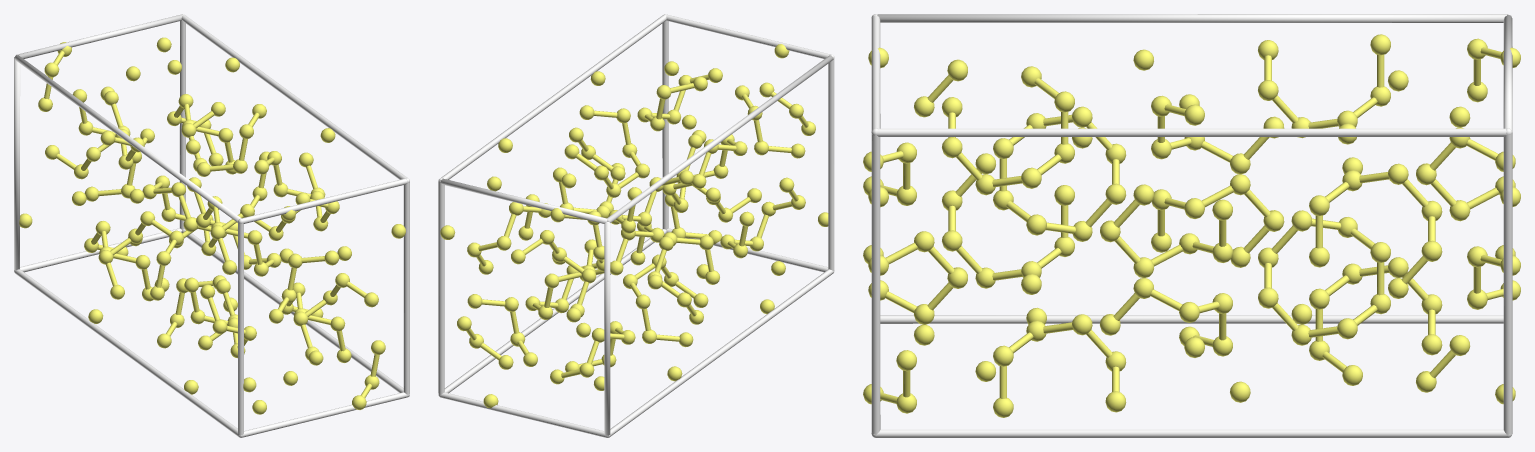
The model's file is AZUFRE.fbx.
3 renders of one model, left to right at view 1: azimuth 30°, elevation 25°; view 2: azimuth 150°, elevation 25°; view 3: azimuth 270°, elevation 25°, orthographic. The views are drawn at different scales.
Parts seen in each view (by area): view 1: S.004, limit; view 2: S.004, limit; view 3: S.004, limit.
Part boxes in pixels (bbox=[...]): S.004: bbox=[19, 37, 405, 414]; limit: bbox=[14, 14, 409, 437]; S.004: bbox=[440, 44, 828, 408]; limit: bbox=[438, 14, 834, 437]; S.004: bbox=[863, 34, 1520, 417]; limit: bbox=[871, 14, 1512, 437].
Size of the model in its own units: 11.82 by 14.45 by 27.85.
